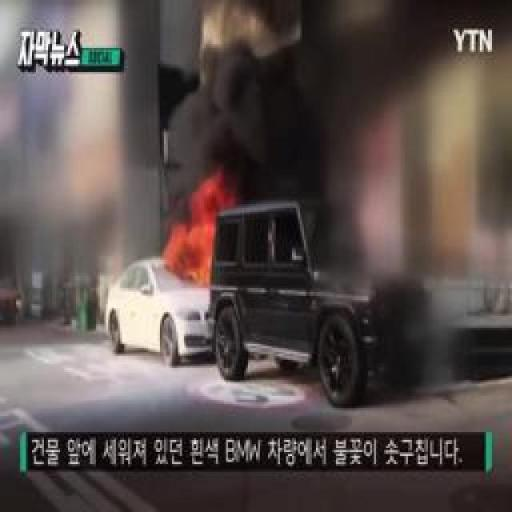smoke: (168, 186, 228, 280)
